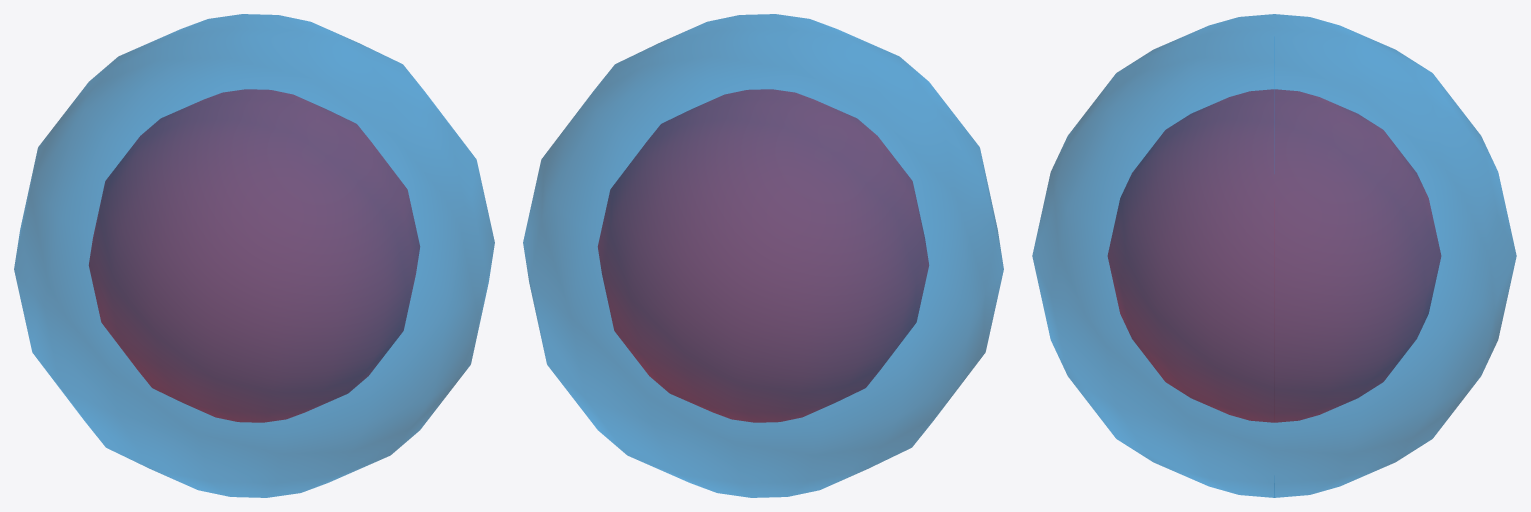
File: ball.glb
3 renders of one model, left to right at view 1: azimuth 30°, elevation 25°; view 2: azimuth 150°, elevation 25°; view 3: azimuth 270°, elevation 25°, orthographic.
Parts seen in each view (by area): view 1: Sphere; view 2: Sphere; view 3: Sphere.
Part boxes in pixels (left/top/right/bottom): Sphere: left=14, top=14, right=494, bottom=497; Sphere: left=523, top=14, right=1003, bottom=497; Sphere: left=1032, top=14, right=1516, bottom=497.
Bounding box in the file's own units: 2 × 2 × 2.
